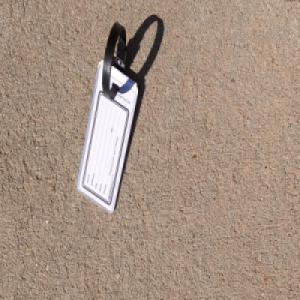LuggageTag: (76, 18, 139, 213)
